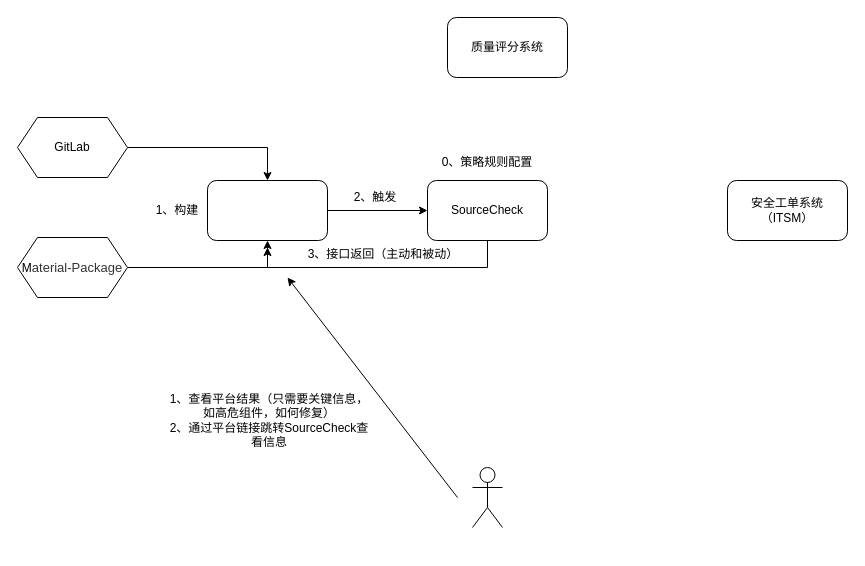
The diagram is 865 pixels wide and 566 high, and some of its shapes have lost their labels. Here are the shapes that lost their labels. From the top down, the centre of each, then its label:
At [267,210]: "持续集成系统（PACE&CI）".
At [487,497]: "研发人员".
